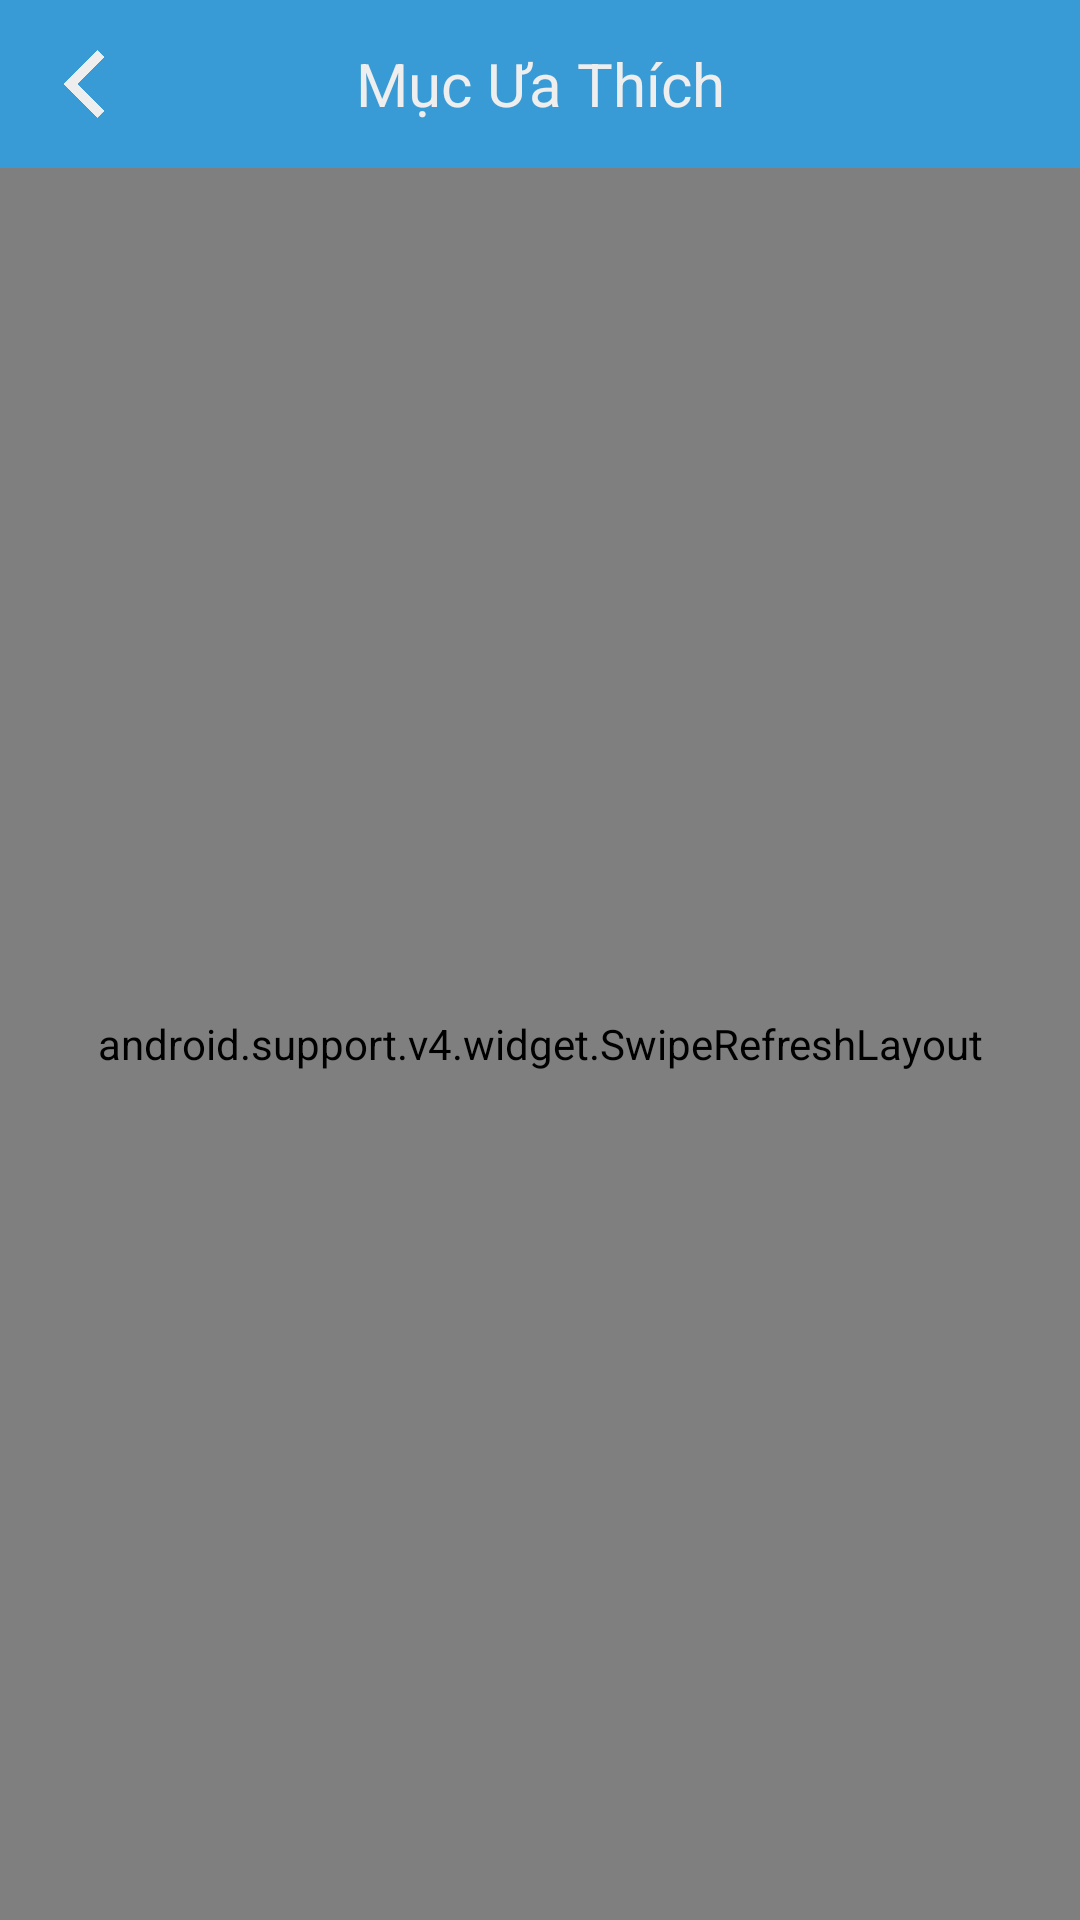

Screen size 1080px×1920px. Icon name, then its box in pixels as (x1, y1, x2, y2):
back: (64, 50, 104, 118)
